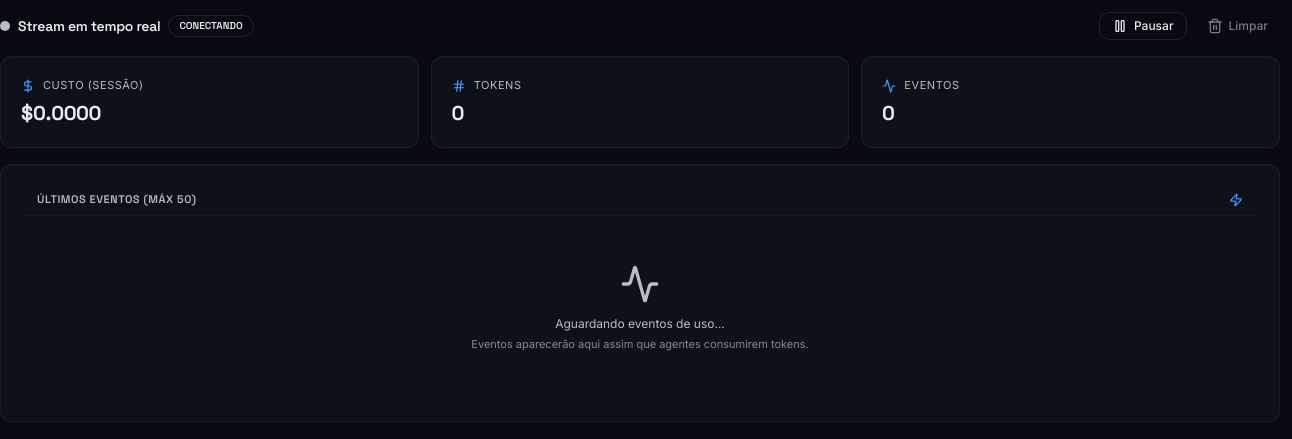
Test: RealTimeCostStream › pause button toggles label between Pausar and Retomar
The image size is (1292, 439).
Click the button "Pausar": click(1143, 26) [1099,12,1186,40]
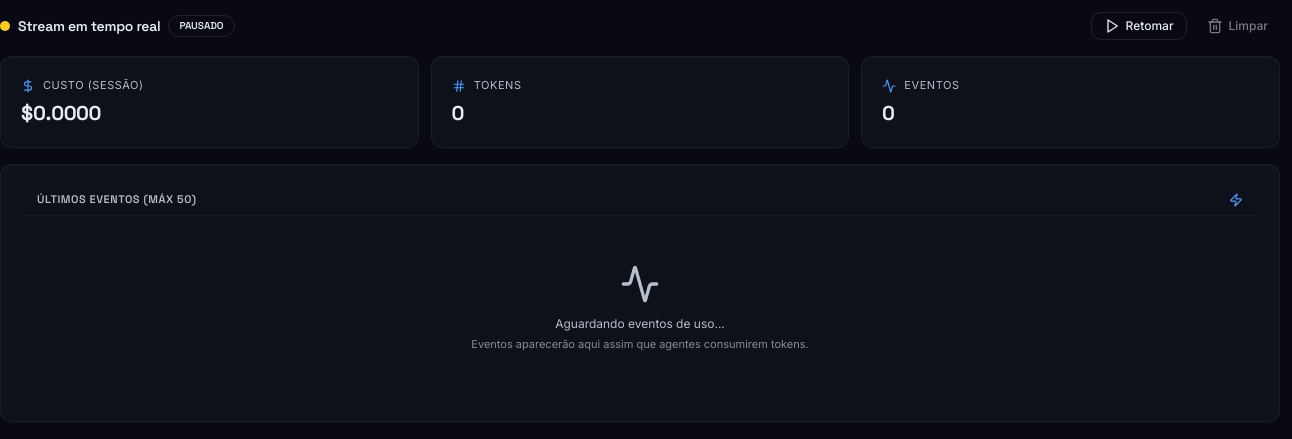
Result: the button "Retomar" is shown at [1090,12,1186,40]
Result: the text "PAUSADO" is shown at [168,15,235,37]
